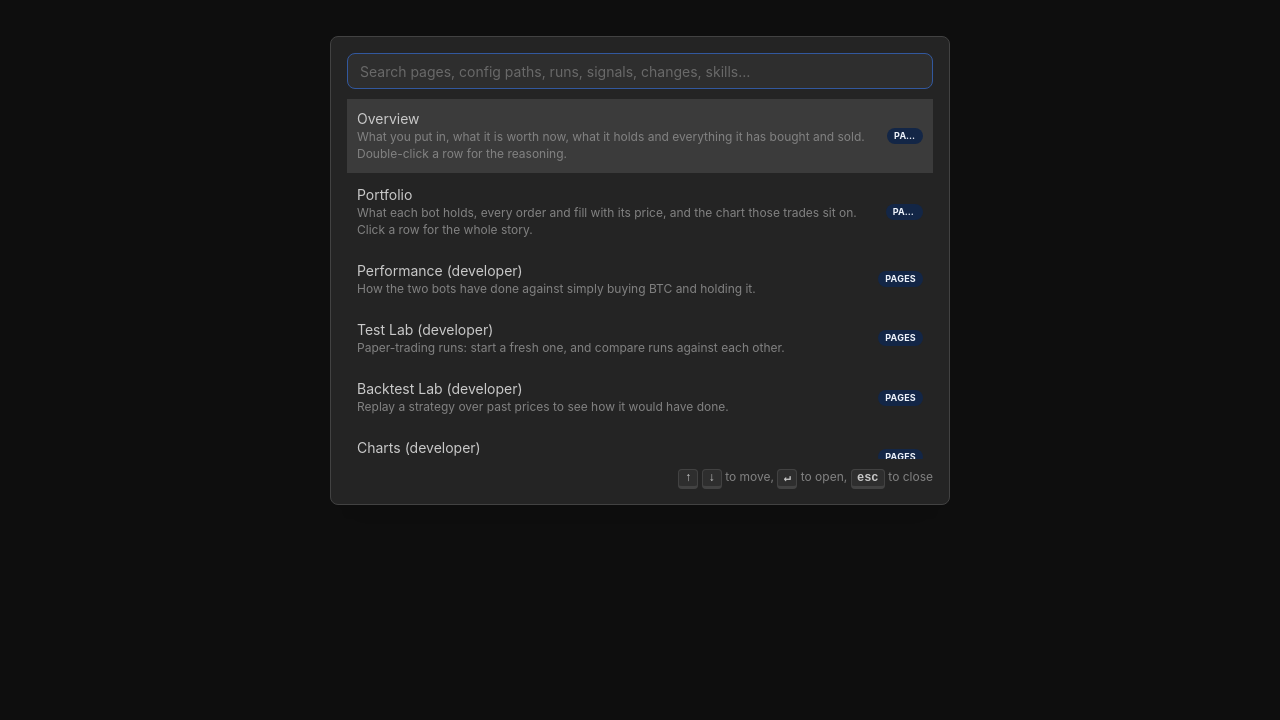
Test: CommandPalette › does not list a page twice when the shell already offers it
Type "invariants" into the field with test id "palette-input" at (640,71), box [347, 53, 933, 89]
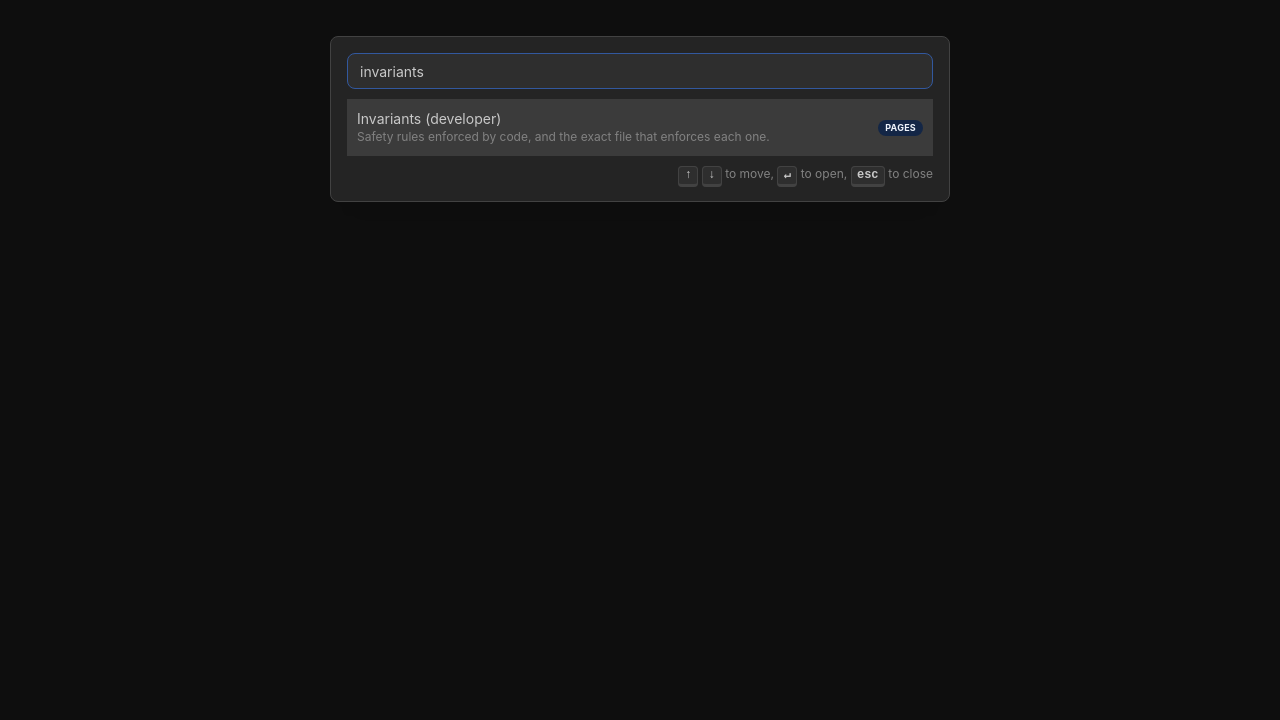
Now the button with test id "palette-item-nav:invariants" is shown, box [347, 99, 933, 156]
